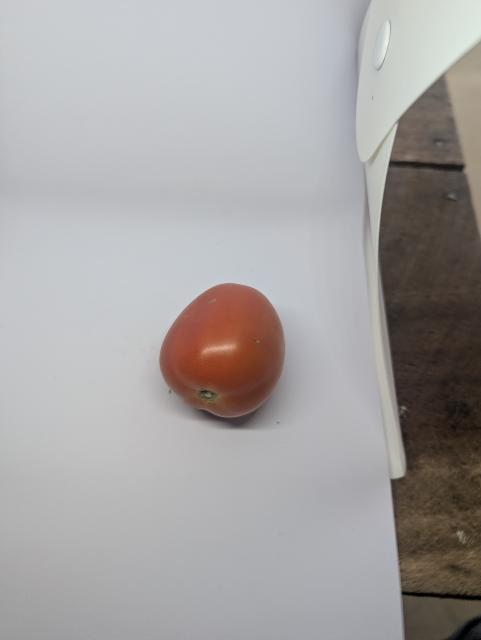red: (150, 269, 316, 441)
